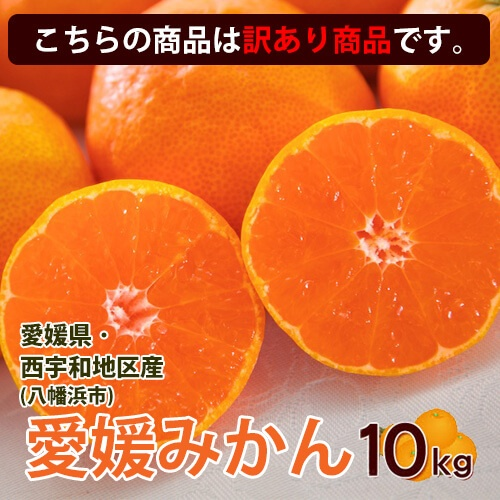mandarin: (1, 179, 264, 448), (241, 109, 500, 378), (87, 1, 375, 232), (378, 1, 499, 171), (1, 83, 95, 282)
